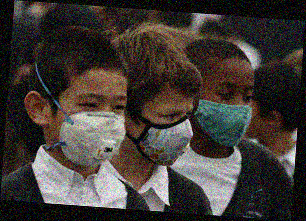with_mask: (49, 90, 127, 168), (194, 80, 253, 147), (132, 103, 193, 167)
